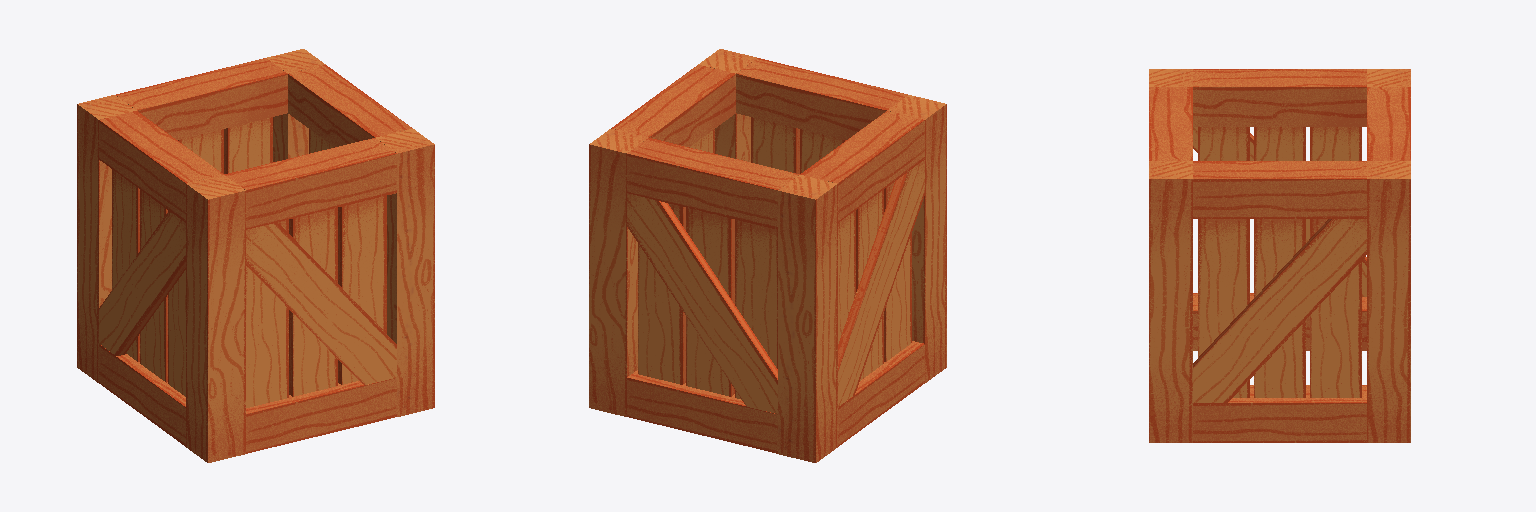
The picture shows the model from 3 angles: view 1: azimuth 30°, elevation 25°; view 2: azimuth 150°, elevation 25°; view 3: azimuth 270°, elevation 25°; orthographic projection.
Visible parts, largest first — view 1: food_crate_Cube.017; view 2: food_crate_Cube.017; view 3: food_crate_Cube.017.
Boxes of the visible parts, x1=… form: food_crate_Cube.017: x1=77, y1=49, x2=434, y2=462; food_crate_Cube.017: x1=589, y1=49, x2=946, y2=462; food_crate_Cube.017: x1=1149, y1=69, x2=1410, y2=442.
Size of the model in its own units: 3.6 by 4 by 3.6.
1 materials, 1 textured.